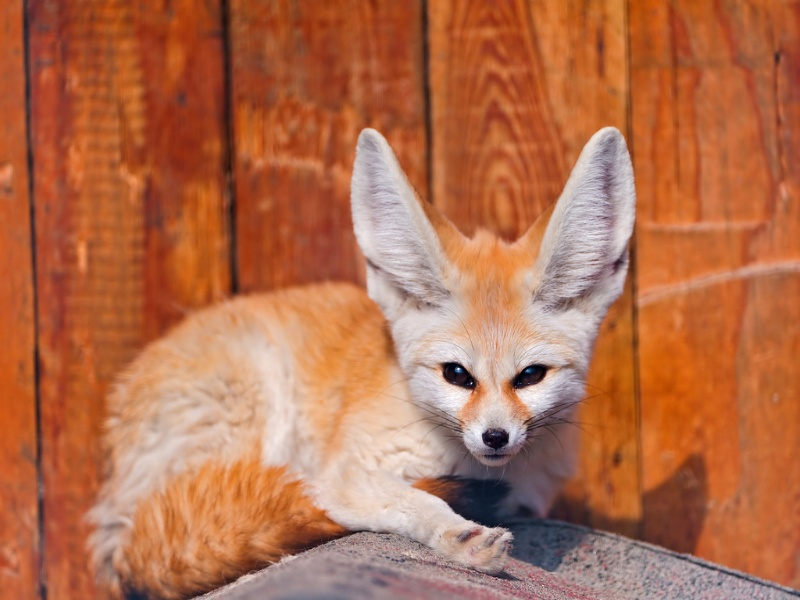fox: (83, 119, 647, 593)
